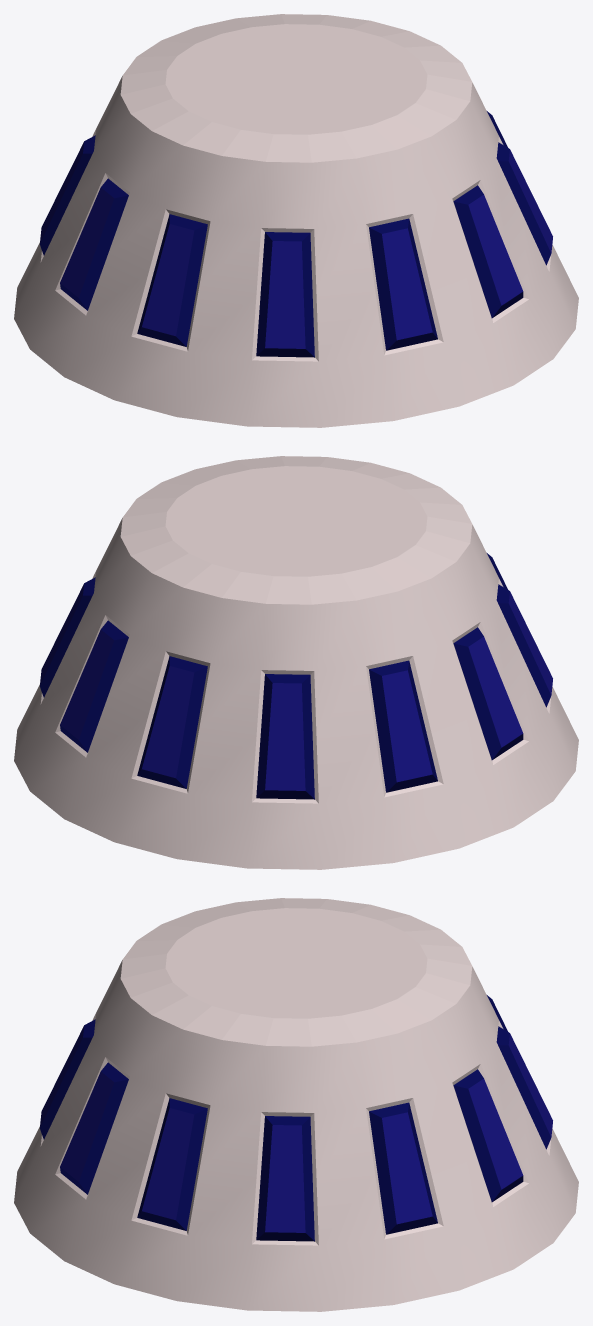
The model's file is Cone émissif.FBX.
3 renders of one model, top to bottom at view 1: azimuth 30°, elevation 25°; view 2: azimuth 150°, elevation 25°; view 3: azimuth 270°, elevation 25°, orthographic.
Parts seen in each view (by area): view 1: Truc pour les cables; view 2: Truc pour les cables; view 3: Truc pour les cables.
Boxes of the visible parts, <box> form: Truc pour les cables: <box>14,14,578,427</box>; Truc pour les cables: <box>14,456,578,869</box>; Truc pour les cables: <box>14,898,578,1311</box>.
Size of the model in its own units: 286 by 128 by 286.
